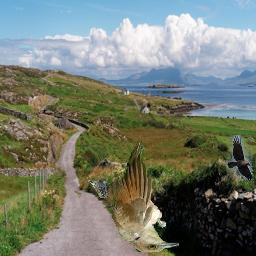Crow: (228, 136, 253, 181)
Cuckoo: (111, 140, 180, 252)
Sparrow: (89, 178, 108, 198)
